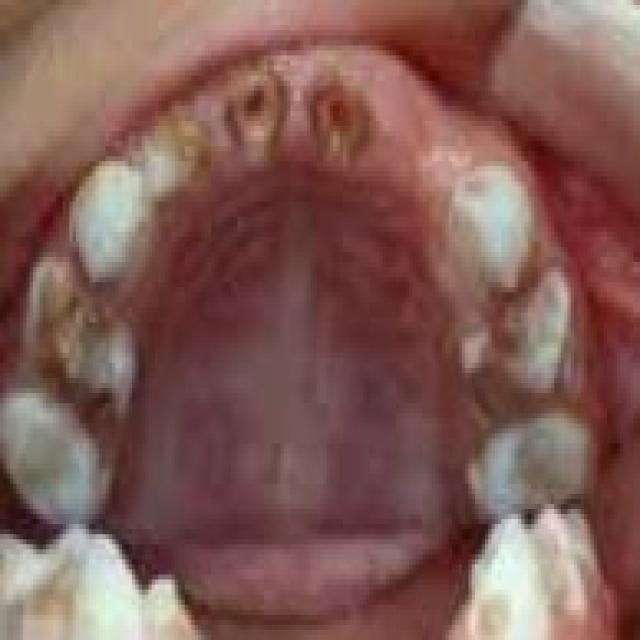caries: (22, 256, 144, 429), (298, 63, 374, 180), (220, 56, 294, 168), (142, 100, 218, 206)
